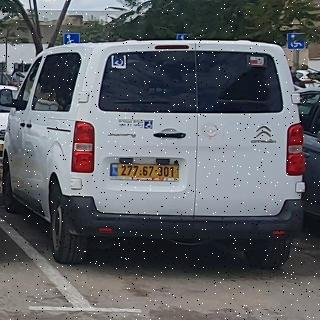LicensePlate: (118, 165, 178, 178)
